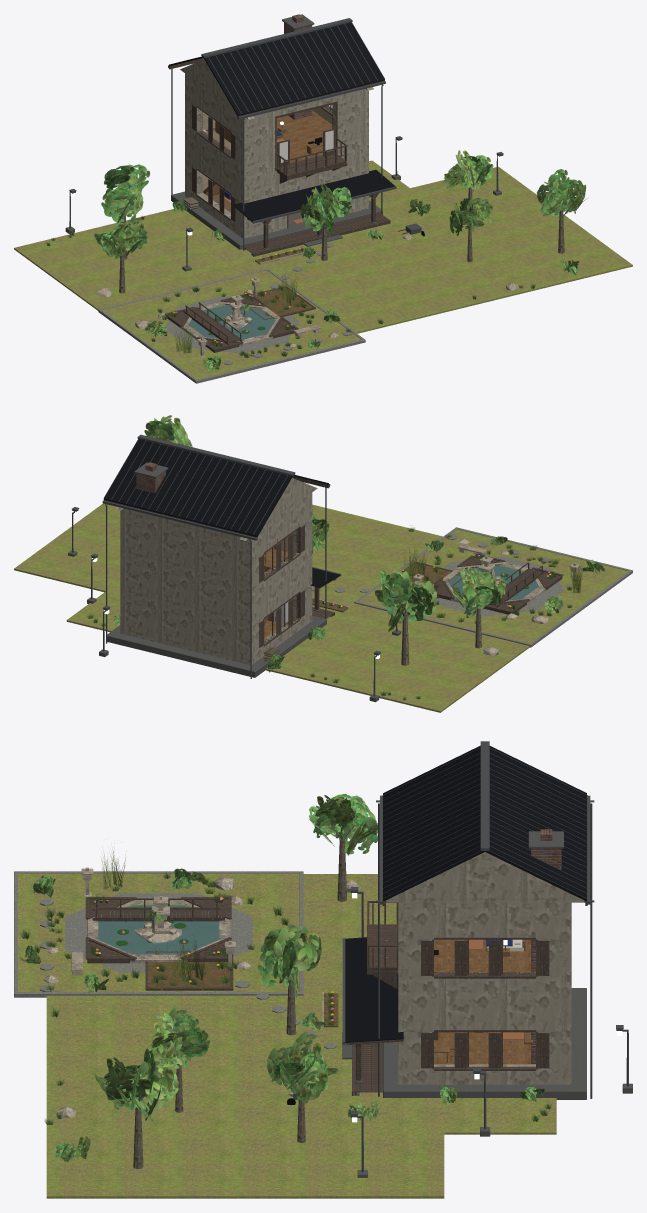
File: garden-ac.glb
The picture shows the model from 3 angles, top to bottom: view 1: azimuth 30°, elevation 25°; view 2: azimuth 150°, elevation 25°; view 3: azimuth 270°, elevation 25°; orthographic projection. The views are drawn at different scales.
Visible parts, largest first — view 1: MESH_GARDEN_BASE_LAWN_LOD0, MESH_GARDEN_PLASTER_OLD_LOD0, MESH_GARDEN_ROOF_METAL_DARK_LOD0, MESH_GARDEN_IMPACT_FOLIAGE_LEAF_CLUSTER_SWAY_CANOPY_LOD0, MESH_GARDEN_WOOD_WEATHERED_LOD0, MESH_GARDEN_STEEL_DARK_LOD0, MESH_GARDEN_BASE_STONE_PAVING_LOD0, MESH_GARDEN_BASE_CONCRETE_LOD0, MESH_GARDEN_ROCK_LOD0, MESH_GARDEN_WOOD_INTERIOR_LOD0, MESH_GARDEN_BASE_SOIL_LOD0, MESH_GARDEN_IMPACT_FOLIAGE_GRASS_TUFT_SWAY_GRASS_NORAY_LOD0 (+3 smaller); view 2: MESH_GARDEN_BASE_LAWN_LOD0, MESH_GARDEN_PLASTER_OLD_LOD0, MESH_GARDEN_ROOF_METAL_DARK_LOD0, MESH_GARDEN_IMPACT_FOLIAGE_LEAF_CLUSTER_SWAY_CANOPY_LOD0, MESH_GARDEN_WOOD_WEATHERED_LOD0, MESH_GARDEN_STEEL_DARK_LOD0, MESH_GARDEN_BASE_CONCRETE_LOD0, MESH_GARDEN_BASE_STONE_PAVING_LOD0, MESH_GARDEN_ROCK_LOD0, MESH_GARDEN_IMPACT_FOLIAGE_GRASS_TUFT_SWAY_GRASS_NORAY_LOD0, MESH_GARDEN_BASE_SOIL_LOD0, MESH_GARDEN_BARK_LOD0 (+4 smaller); view 3: MESH_GARDEN_BASE_LAWN_LOD0, MESH_GARDEN_PLASTER_OLD_LOD0, MESH_GARDEN_ROOF_METAL_DARK_LOD0, MESH_GARDEN_IMPACT_FOLIAGE_LEAF_CLUSTER_SWAY_CANOPY_LOD0, MESH_GARDEN_WOOD_WEATHERED_LOD0, MESH_GARDEN_STEEL_DARK_LOD0, MESH_GARDEN_BASE_STONE_PAVING_LOD0, MESH_GARDEN_BASE_CONCRETE_LOD0, MESH_GARDEN_BASE_SOIL_LOD0, MESH_GARDEN_ROCK_LOD0, MESH_GARDEN_WOOD_INTERIOR_LOD0, MESH_GARDEN_IMPACT_WATER_POND_WATER_POND_RIPPLE_LOD0 (+5 smaller).
Boxes of the visible parts, left/top/right/bottom form: MESH_GARDEN_BASE_LAWN_LOD0: left=14, top=160, right=632, bottom=379; MESH_GARDEN_PLASTER_OLD_LOD0: left=180, top=59, right=373, bottom=238; MESH_GARDEN_ROOF_METAL_DARK_LOD0: left=169, top=22, right=395, bottom=221; MESH_GARDEN_IMPACT_FOLIAGE_LEAF_CLUSTER_SWAY_CANOPY_LOD0: left=94, top=150, right=587, bottom=371; MESH_GARDEN_WOOD_WEATHERED_LOD0: left=165, top=58, right=410, bottom=352; MESH_GARDEN_STEEL_DARK_LOD0: left=69, top=18, right=503, bottom=267; MESH_GARDEN_BASE_STONE_PAVING_LOD0: left=98, top=243, right=365, bottom=383; MESH_GARDEN_BASE_CONCRETE_LOD0: left=65, top=14, right=501, bottom=271; MESH_GARDEN_ROCK_LOD0: left=96, top=234, right=518, bottom=357; MESH_GARDEN_WOOD_INTERIOR_LOD0: left=203, top=110, right=332, bottom=225; MESH_GARDEN_BASE_SOIL_LOD0: left=189, top=249, right=312, bottom=339; MESH_GARDEN_IMPACT_FOLIAGE_GRASS_TUFT_SWAY_GRASS_NORAY_LOD0: left=46, top=216, right=535, bottom=357; MESH_GARDEN_BASE_LAWN_LOD0: left=14, top=503, right=628, bottom=712; MESH_GARDEN_PLASTER_OLD_LOD0: left=115, top=478, right=317, bottom=665; MESH_GARDEN_ROOF_METAL_DARK_LOD0: left=103, top=439, right=340, bottom=587; MESH_GARDEN_IMPACT_FOLIAGE_LEAF_CLUSTER_SWAY_CANOPY_LOD0: left=113, top=415, right=604, bottom=672; MESH_GARDEN_WOOD_WEATHERED_LOD0: left=104, top=476, right=563, bottom=647; MESH_GARDEN_STEEL_DARK_LOD0: left=72, top=434, right=397, bottom=696; MESH_GARDEN_BASE_CONCRETE_LOD0: left=68, top=462, right=401, bottom=702; MESH_GARDEN_BASE_STONE_PAVING_LOD0: left=312, top=527, right=632, bottom=647; MESH_GARDEN_ROCK_LOD0: left=312, top=539, right=580, bottom=655; MESH_GARDEN_IMPACT_FOLIAGE_GRASS_TUFT_SWAY_GRASS_NORAY_LOD0: left=87, top=506, right=572, bottom=700; MESH_GARDEN_BASE_SOIL_LOD0: left=312, top=563, right=538, bottom=612; MESH_GARDEN_BARK_LOD0: left=263, top=605, right=481, bottom=665; MESH_GARDEN_BASE_LAWN_LOD0: left=18, top=873, right=556, bottom=1198; MESH_GARDEN_PLASTER_OLD_LOD0: left=385, top=852, right=584, bottom=1084; MESH_GARDEN_ROOF_METAL_DARK_LOD0: left=345, top=745, right=586, bottom=1042; MESH_GARDEN_IMPACT_FOLIAGE_LEAF_CLUSTER_SWAY_CANOPY_LOD0: left=19, top=794, right=544, bottom=1161; MESH_GARDEN_WOOD_WEATHERED_LOD0: left=85, top=795, right=587, bottom=1095; MESH_GARDEN_STEEL_DARK_LOD0: left=293, top=741, right=628, bottom=1172; MESH_GARDEN_BASE_STONE_PAVING_LOD0: left=14, top=871, right=336, bottom=1049; MESH_GARDEN_BASE_CONCRETE_LOD0: left=342, top=831, right=632, bottom=1177; MESH_GARDEN_BASE_SOIL_LOD0: left=98, top=906, right=338, bottom=1027; MESH_GARDEN_ROCK_LOD0: left=43, top=867, right=359, bottom=1117; MESH_GARDEN_WOOD_INTERIOR_LOD0: left=434, top=939, right=532, bottom=1064; MESH_GARDEN_IMPACT_WATER_POND_WATER_POND_RIPPLE_LOD0: left=98, top=905, right=219, bottom=954.
Size of what is drawn, in the model's own units: 37.5 by 14.02 by 30.35.
20 materials, 16 textured.
